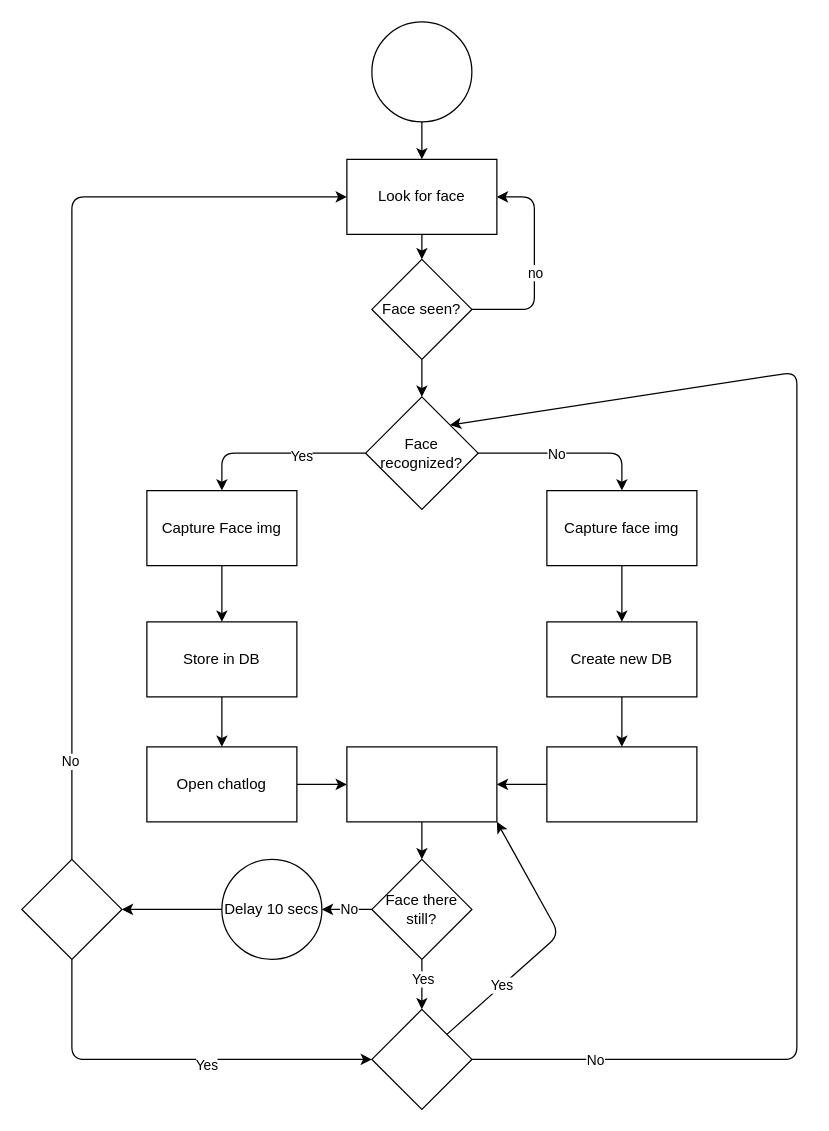
This 829x1131 diagram has some shape labels left out. Here are the shapes that lost their labels. From the top down, the centre of each, then its label:
At pixel 421 71: "Start".
At pixel 421 784: "Chat".
At pixel 621 784: "Create new chat log".
At pixel 71 908: "Face detected?".
At pixel 421 1058: "Same person?".
